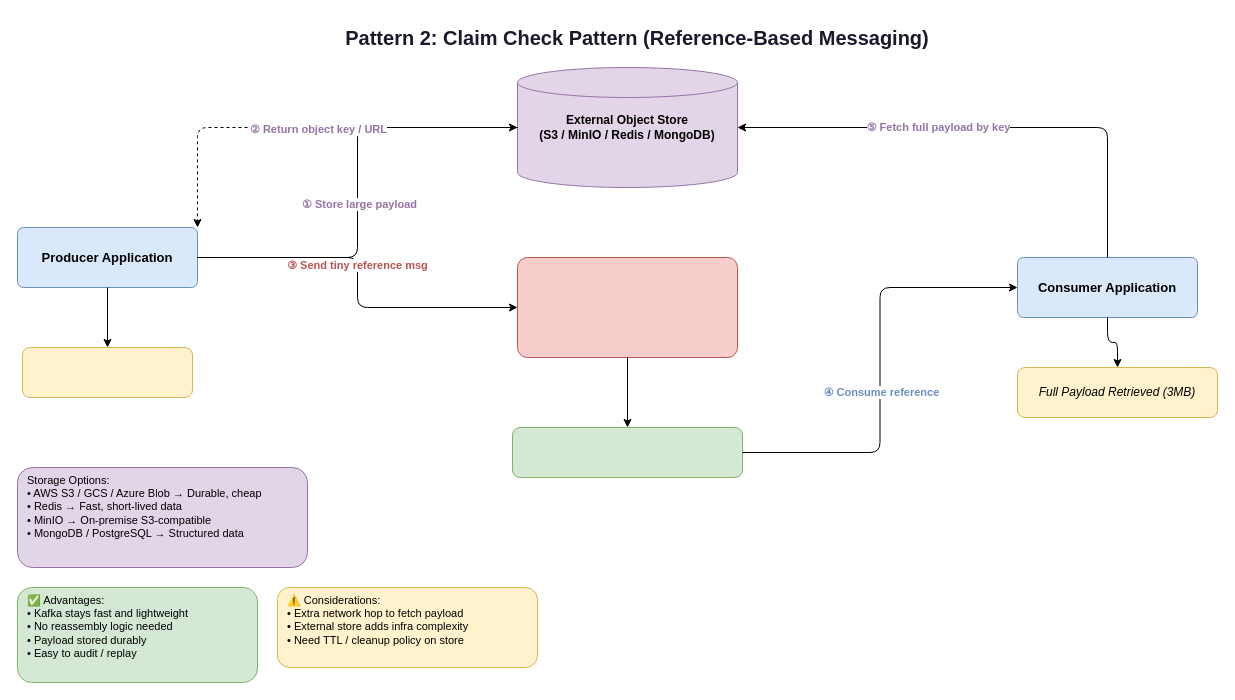
Some shapes in this 1235 by 700 pixel diagram are drawn without their labels. Each missing label, with the box of its shape:
Kafka Broker (Max 1MB / message): (516, 256, 738, 358)
Large Payload (3MB): (22, 346, 192, 398)
Reference Message (<1KB) { msg-id, object-key, metadata }: (512, 426, 742, 478)
